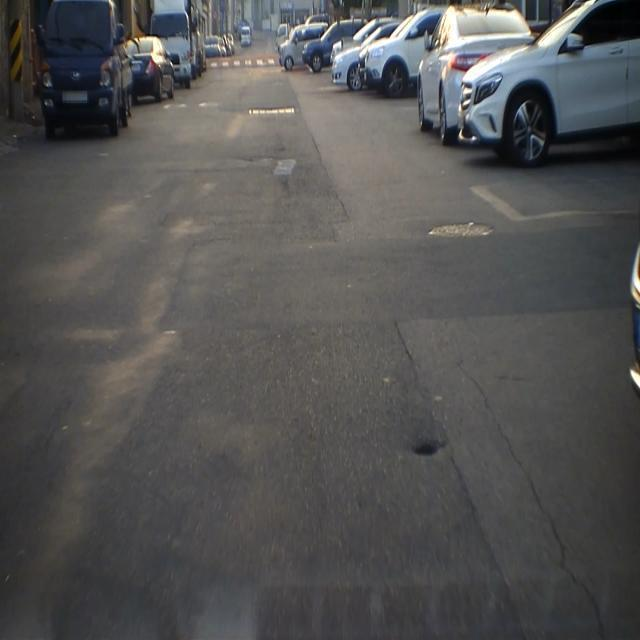pothole: (403, 426, 458, 471)
